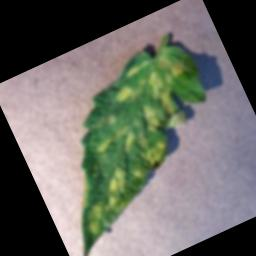Leaf_Mold: (143, 65, 184, 120), (92, 123, 141, 164), (96, 164, 138, 208), (139, 138, 176, 173), (80, 199, 114, 236), (134, 97, 165, 136), (154, 47, 187, 81), (110, 82, 140, 108)
